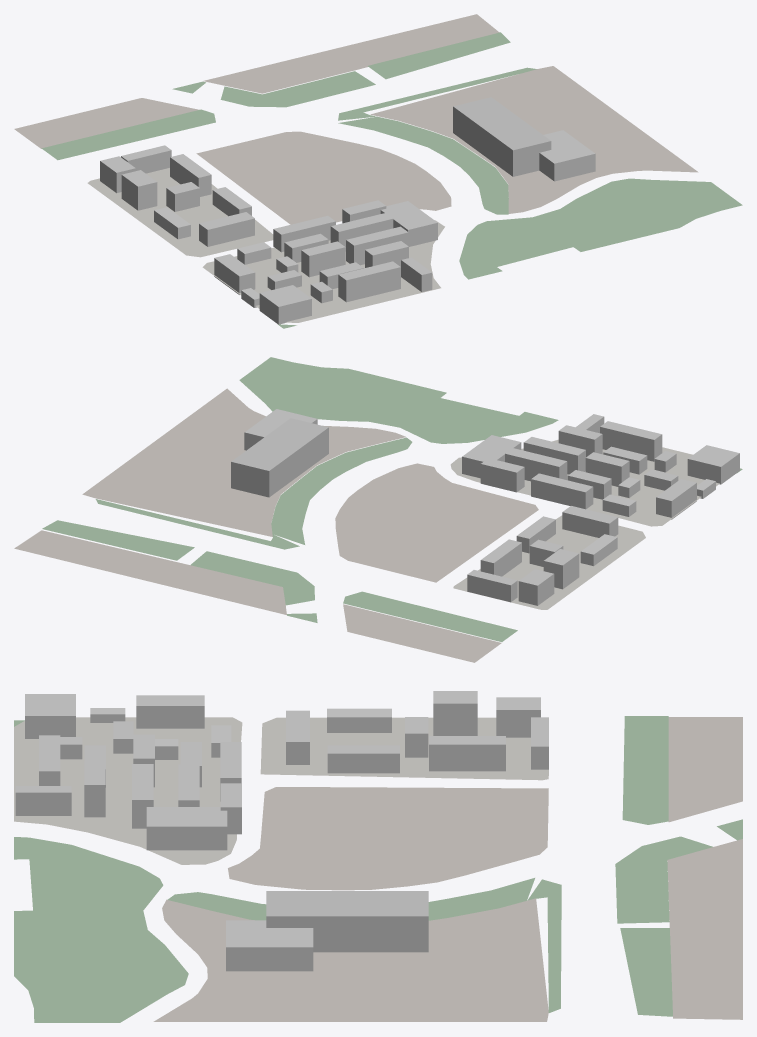
The model's file is 127_71_mid.glb.
The picture shows the model from 3 angles, top to bottom: view 1: azimuth 30°, elevation 25°; view 2: azimuth 150°, elevation 25°; view 3: azimuth 270°, elevation 25°; orthographic projection. The views are drawn at different scales.
Bounding box in the file's own units: 501 × 32.16 × 500.
